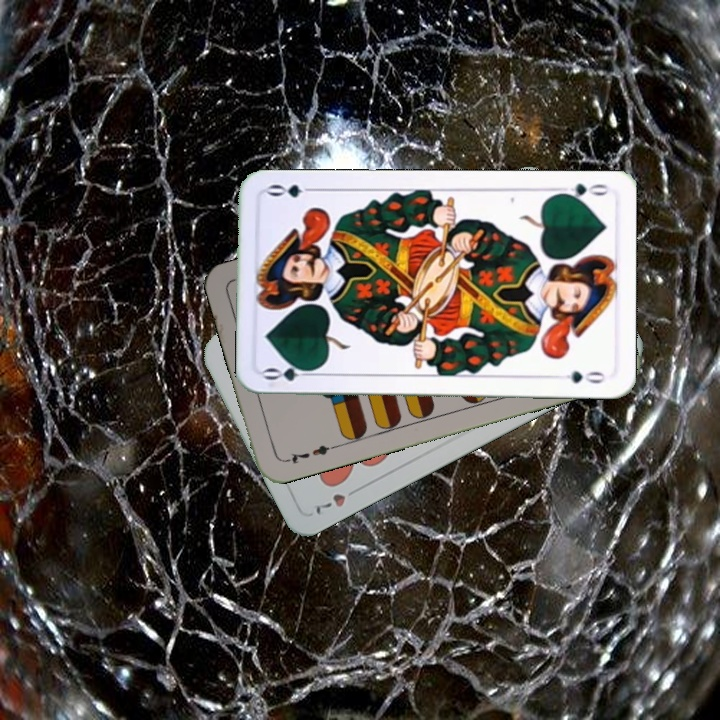E7: (280, 441, 338, 466)
GO: (551, 179, 610, 204), (260, 362, 319, 383)
H7: (311, 483, 363, 518)
